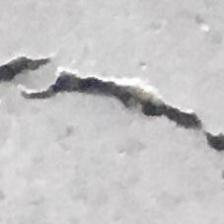Crack: (0, 47, 224, 160)
